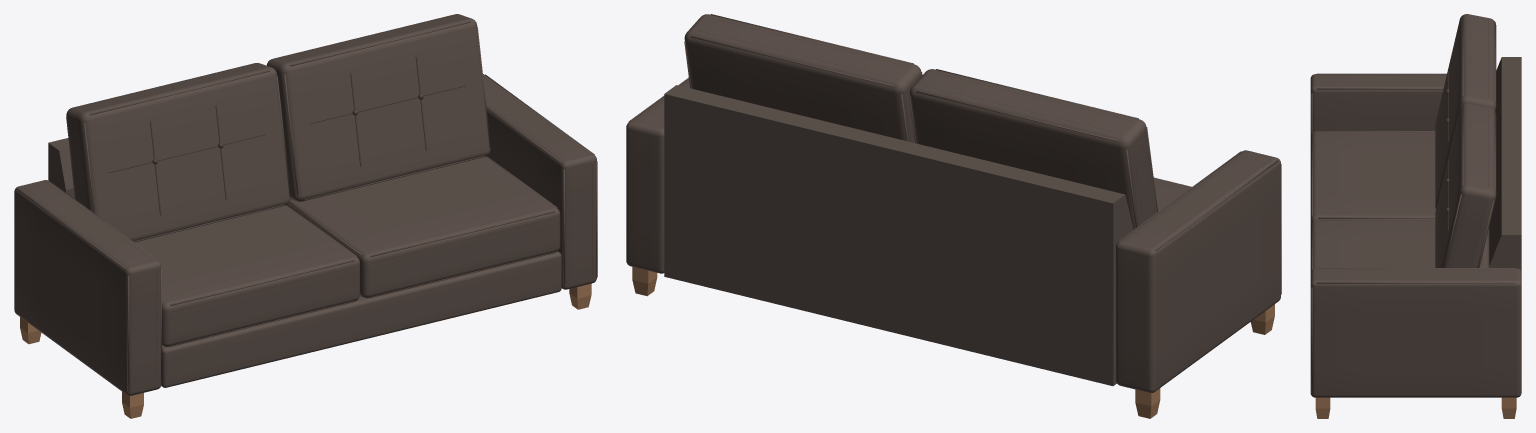
The model's file is benza_200x85.glb.
The picture shows the model from 3 angles, left to right: view 1: azimuth 30°, elevation 25°; view 2: azimuth 150°, elevation 25°; view 3: azimuth 270°, elevation 25°; orthographic projection. The views are drawn at different scales.
Parts seen in each view (by area): view 1: p1, p2, p0; view 2: p1, p0, p2; view 3: p1, p2, p0.
Boxes of the visible parts, x1,y1,x2,y2 form: p1: [14, 14, 597, 395]; p2: [22, 16, 592, 389]; p0: [20, 283, 591, 418]; p1: [626, 14, 1281, 392]; p0: [632, 267, 1274, 418]; p2: [635, 18, 1270, 246]; p1: [1310, 14, 1521, 397]; p2: [1319, 16, 1514, 279]; p0: [1315, 397, 1516, 418].
Bounding box in the file's own units: 2 × 0.9642 × 0.8506.
Materials: 3 (2 with a texture image).
